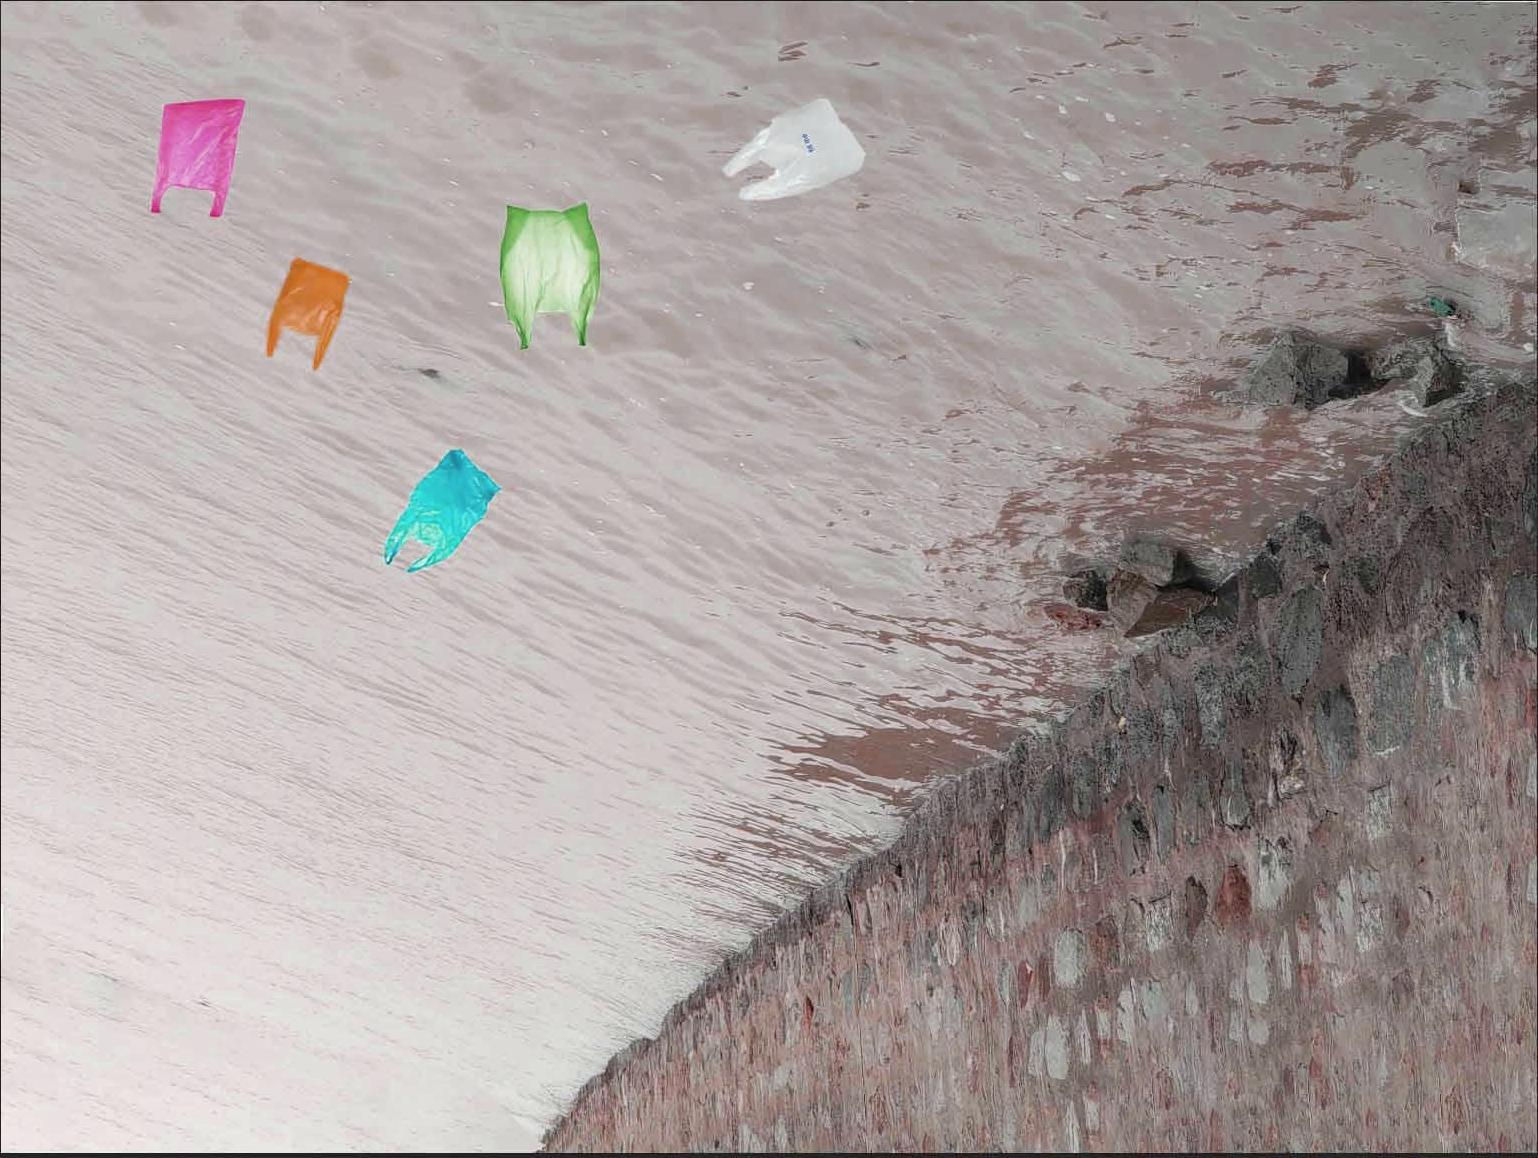Trash: (722, 91, 881, 217), (494, 196, 613, 353), (383, 451, 509, 583), (143, 96, 247, 225), (258, 249, 359, 381)
